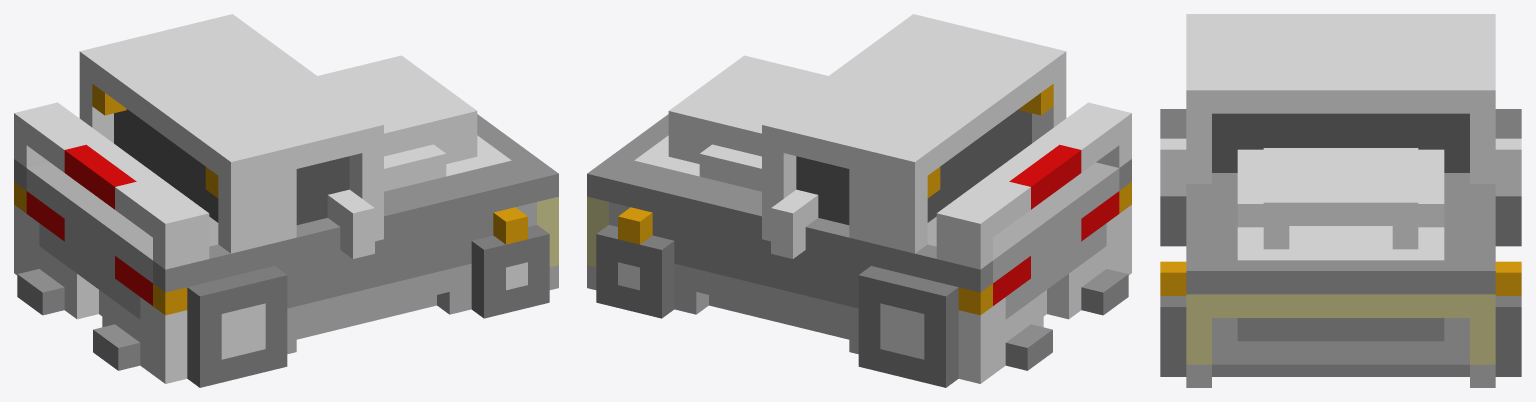
File: car.glb
The picture shows the model from 3 angles, left to right: view 1: azimuth 30°, elevation 25°; view 2: azimuth 150°, elevation 25°; view 3: azimuth 270°, elevation 25°; orthographic projection. The views are drawn at different scales.
Parts seen in each view (by area): view 1: VoxTransform; view 2: VoxTransform; view 3: VoxTransform.
Boxes of the visible parts, x1,y1,x2,y2 form: VoxTransform: (14,14,558,387); VoxTransform: (587,14,1131,387); VoxTransform: (1160,14,1521,387).
Bounding box in the file's own units: 19 × 9 × 14.
